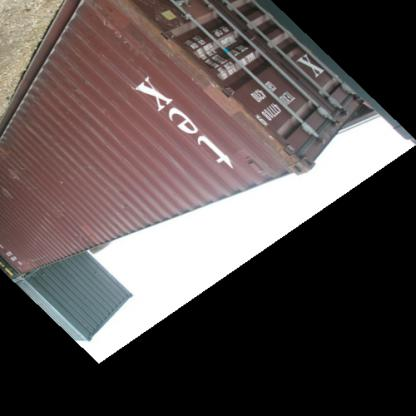Damage: (104, 17, 212, 91), (240, 111, 300, 167), (92, 89, 119, 130), (8, 166, 29, 190), (112, 203, 138, 218), (54, 210, 70, 230)
